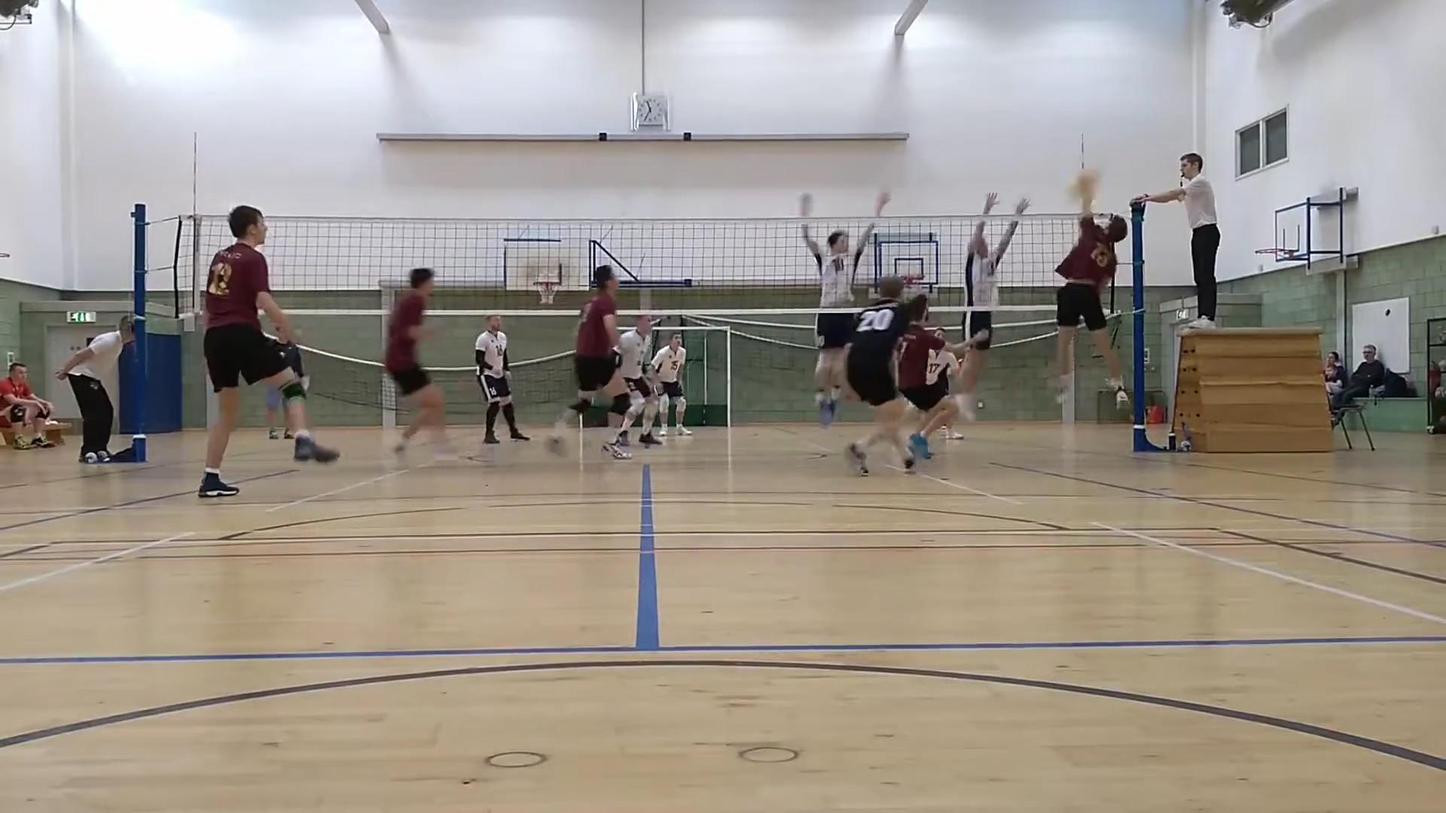attacco: (1049, 168, 1138, 408)
muro: (785, 176, 898, 431), (943, 179, 1040, 432)
